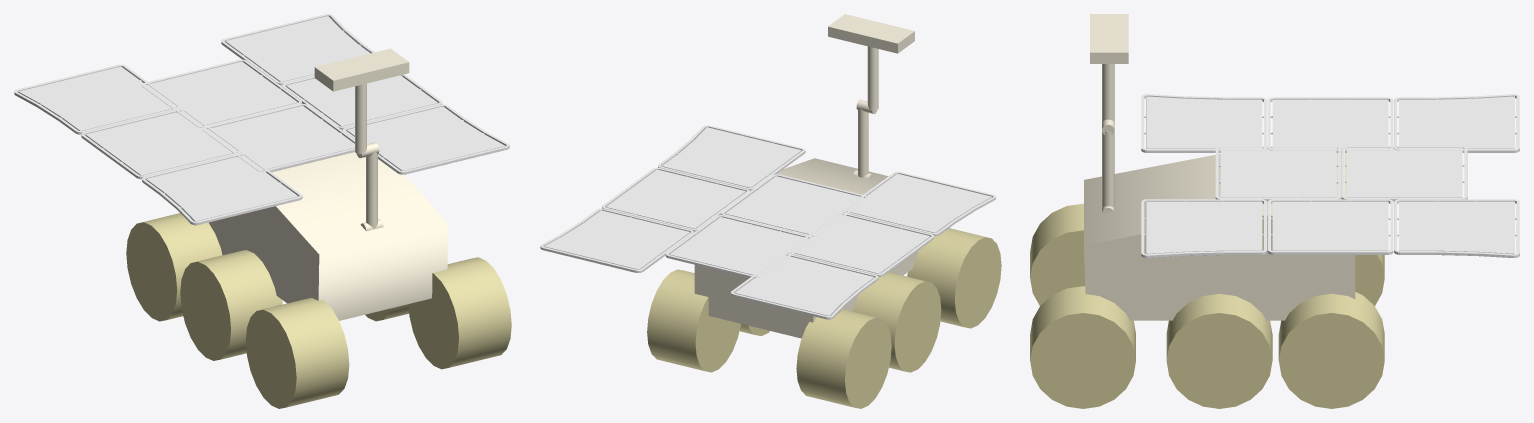
File: marscar.glb
The picture shows the model from 3 angles, left to right: view 1: azimuth 30°, elevation 25°; view 2: azimuth 150°, elevation 25°; view 3: azimuth 270°, elevation 25°; orthographic projection. The views are drawn at different scales.
Visible parts, largest first — view 1: pasted__pCube115; view 2: pasted__pCube115; view 3: pasted__pCube115.
Part boxes in pixels (left/top/right/bottom): pasted__pCube115: left=14, top=14, right=511, bottom=408; pasted__pCube115: left=540, top=14, right=1001, bottom=408; pasted__pCube115: left=1030, top=14, right=1519, bottom=408.
Bounding box in the file's own units: 0.1039 × 0.0957 × 0.1332.
